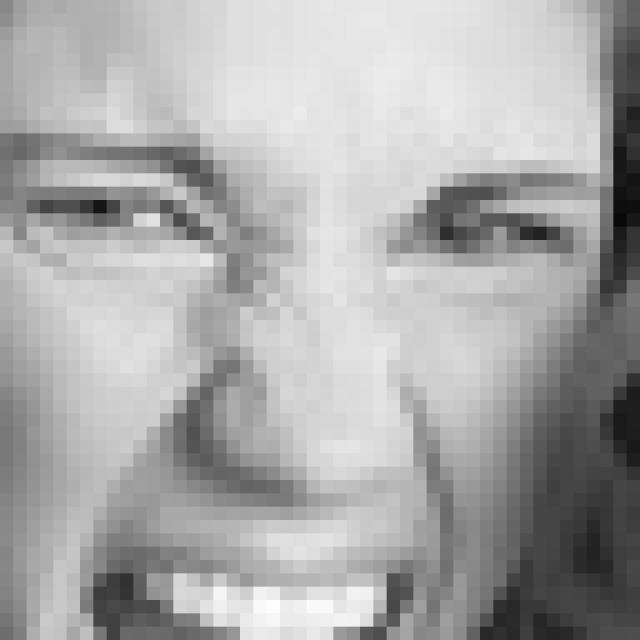angry: (0, 129, 609, 640)
